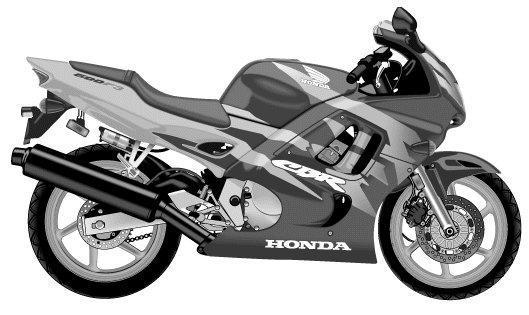motorcycle: (9, 1, 529, 315)
